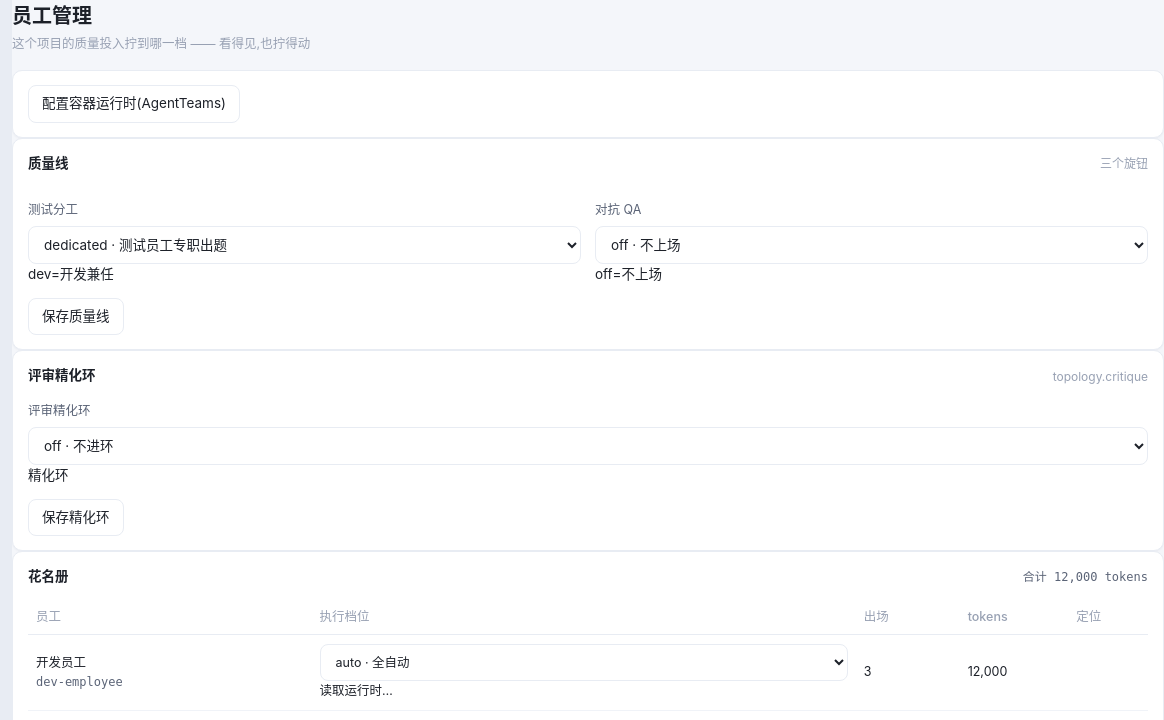
Test: 员工管理页 › opens the loop and its thresholds in one move
Expected: the field labelled "轮次上限" is not shown
Select "on · 开发之后加一轮只批不改的评审" in the dropdown labelled "评审精化环": (588, 446) [28, 427, 1148, 465]
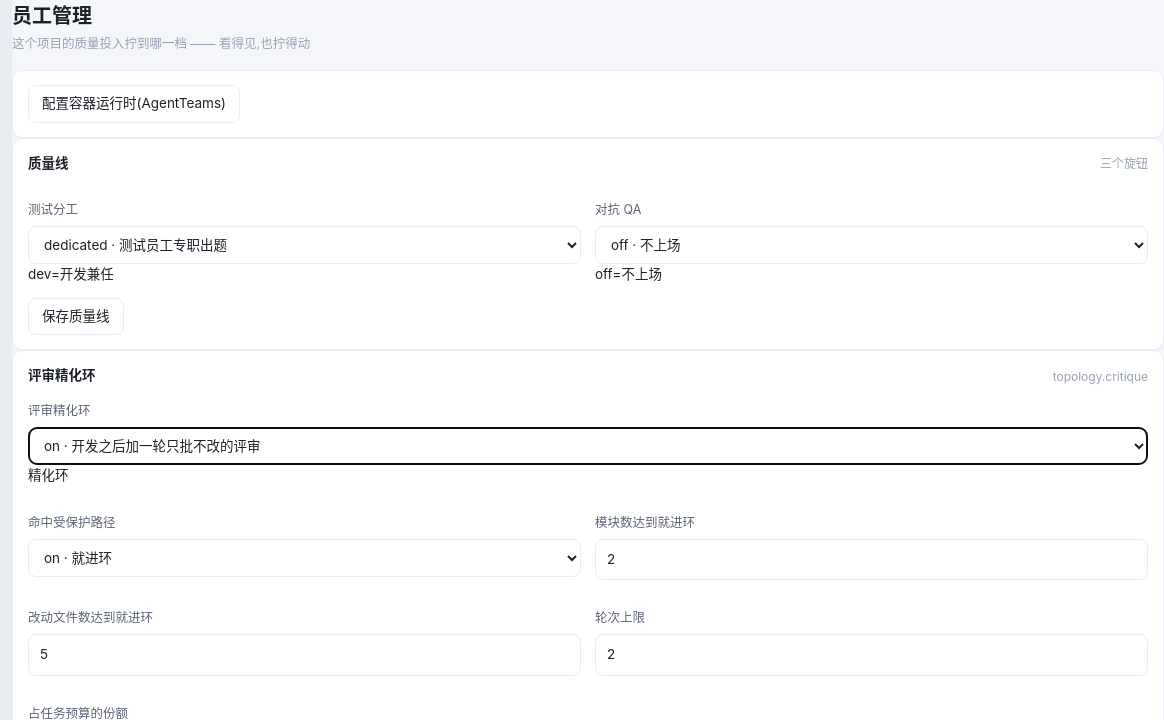
Now the number field labelled "轮次上限" holds "2", box [595, 634, 1148, 676]
Now the number field labelled "模块数达到就进环" holds "2", box [595, 539, 1148, 580]
